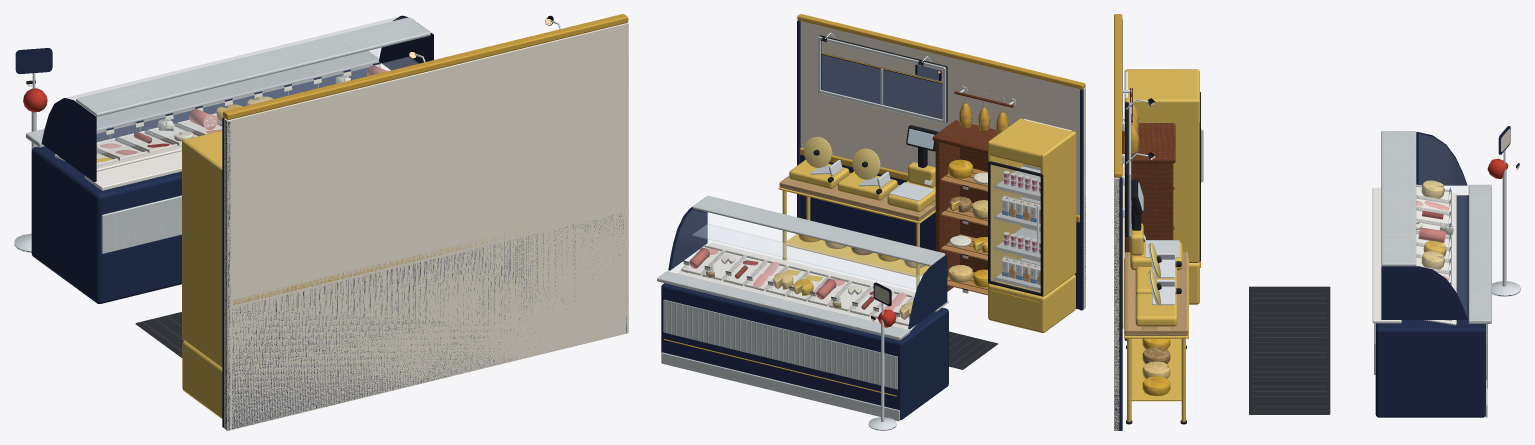
The model's file is sector-queijaria_T2.fbx.
The picture shows the model from 3 angles, left to right: view 1: azimuth 30°, elevation 25°; view 2: azimuth 150°, elevation 25°; view 3: azimuth 270°, elevation 25°; orthographic projection. The views are drawn at different scales.
Visible parts, largest first — view 1: Back Wall, Body; view 2: Body, Back Wall, Wall Dressing; view 3: Body, Back Wall, Wall Dressing.
Part boxes in pixels (x1=…): Back Wall: x1=222, y1=14, x2=628, y2=430; Body: x1=14, y1=15, x2=433, y2=418; Body: x1=657, y1=118, x2=1076, y2=430; Back Wall: x1=797, y1=14, x2=1085, y2=310; Wall Dressing: x1=817, y1=32, x2=1015, y2=134; Body: x1=1122, y1=69, x2=1520, y2=424; Back Wall: x1=1114, y1=14, x2=1123, y2=430; Wall Dressing: x1=1122, y1=86, x2=1155, y2=237.
Bounding box in the file's own units: 3.25 × 2.45 × 3.5.
